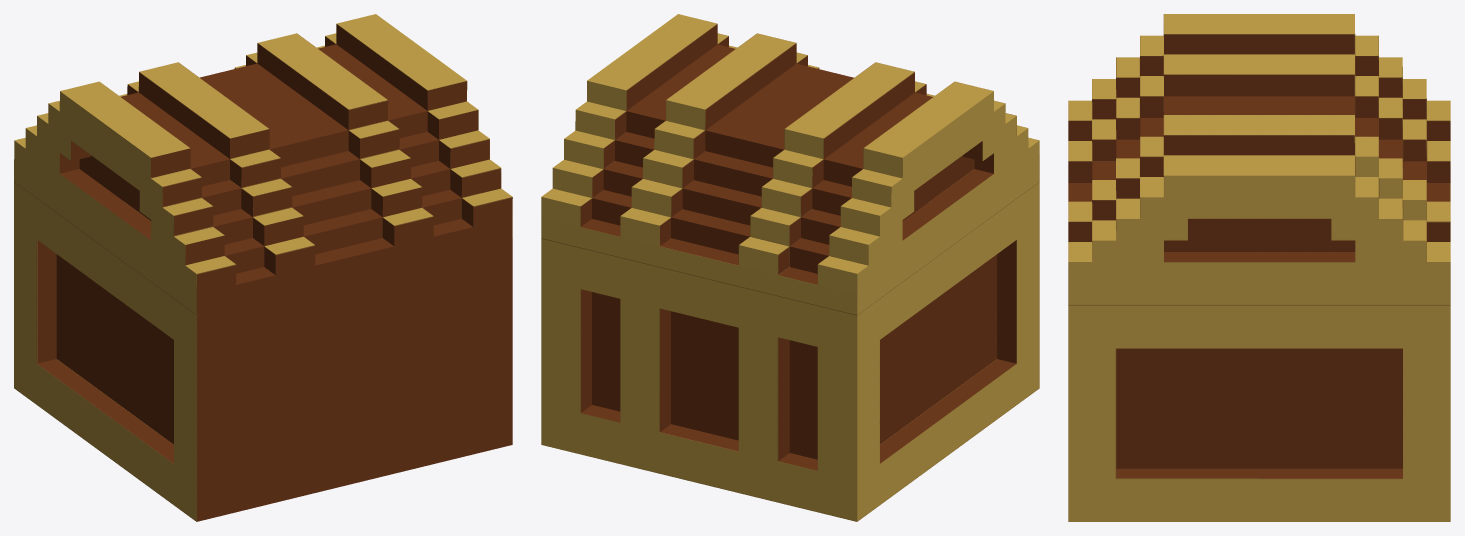
The model's file is Chest.fbx.
The picture shows the model from 3 angles, left to right: view 1: azimuth 30°, elevation 25°; view 2: azimuth 150°, elevation 25°; view 3: azimuth 270°, elevation 25°; orthographic projection. The views are drawn at different scales.
Visible parts, largest first — view 1: Cube, Cube.001; view 2: Cube, Cube.001; view 3: Cube.001, Cube.
Boxes of the visible parts, box(x1,y1,x2,y2) form: Cube: box(14, 182, 512, 521); Cube.001: box(14, 14, 512, 314); Cube: box(541, 182, 1039, 521); Cube.001: box(541, 14, 1039, 314); Cube.001: box(1068, 14, 1450, 305); Cube: box(1068, 305, 1450, 521).
Size of the model in its own units: 1 by 1 by 1.
